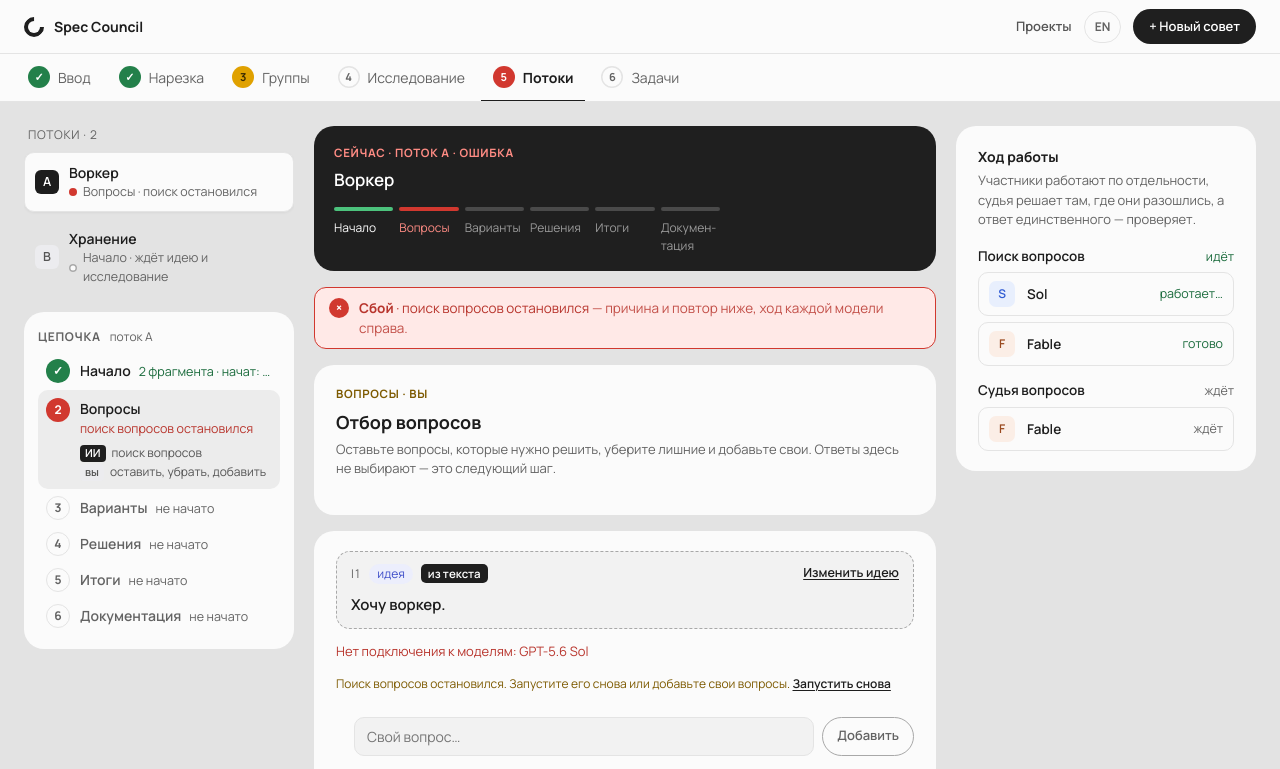
Test: Поток: начало и вопросы › повтор, который другая вкладка уже запустила и даже довела до конца, — показан её итог
Step 1. Click the button "Запустить снова" → point(842, 684), box 792,674 -> 891,692
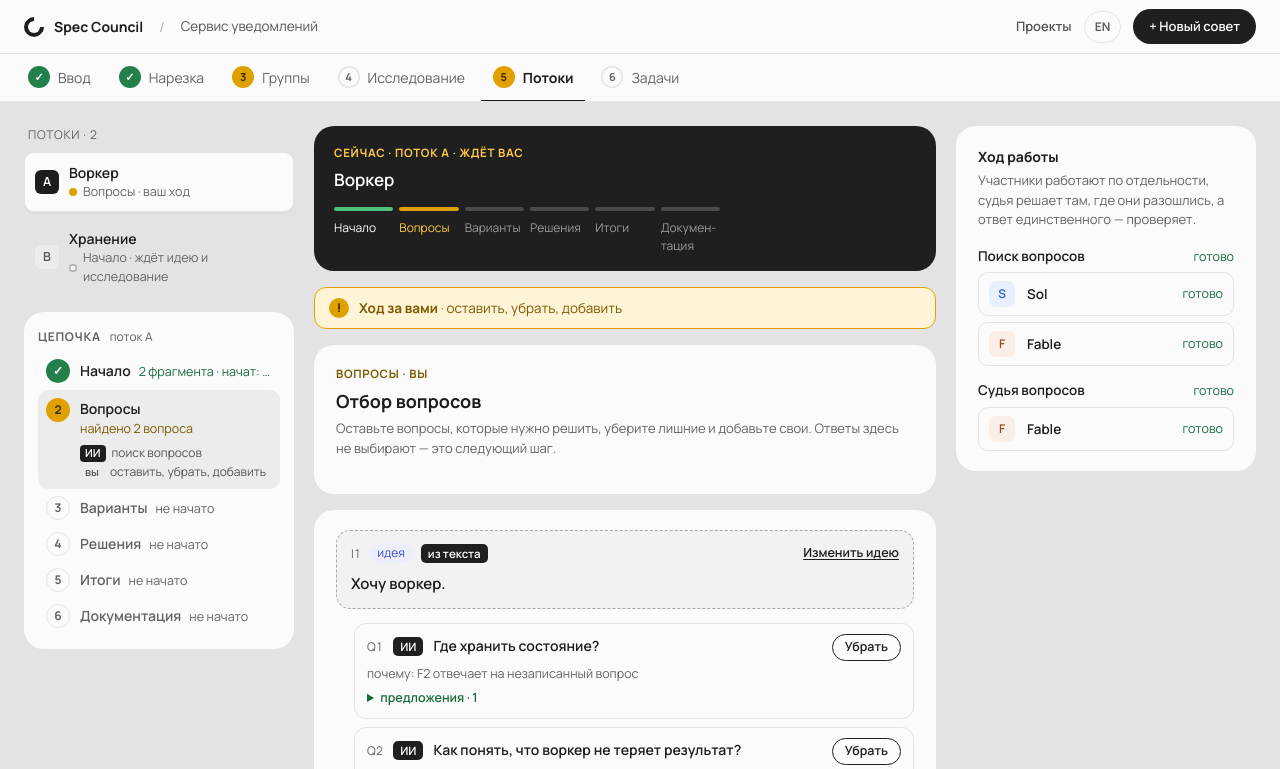
Now the text "Где хранить состояние?" is shown, box 433,636 -> 599,655
